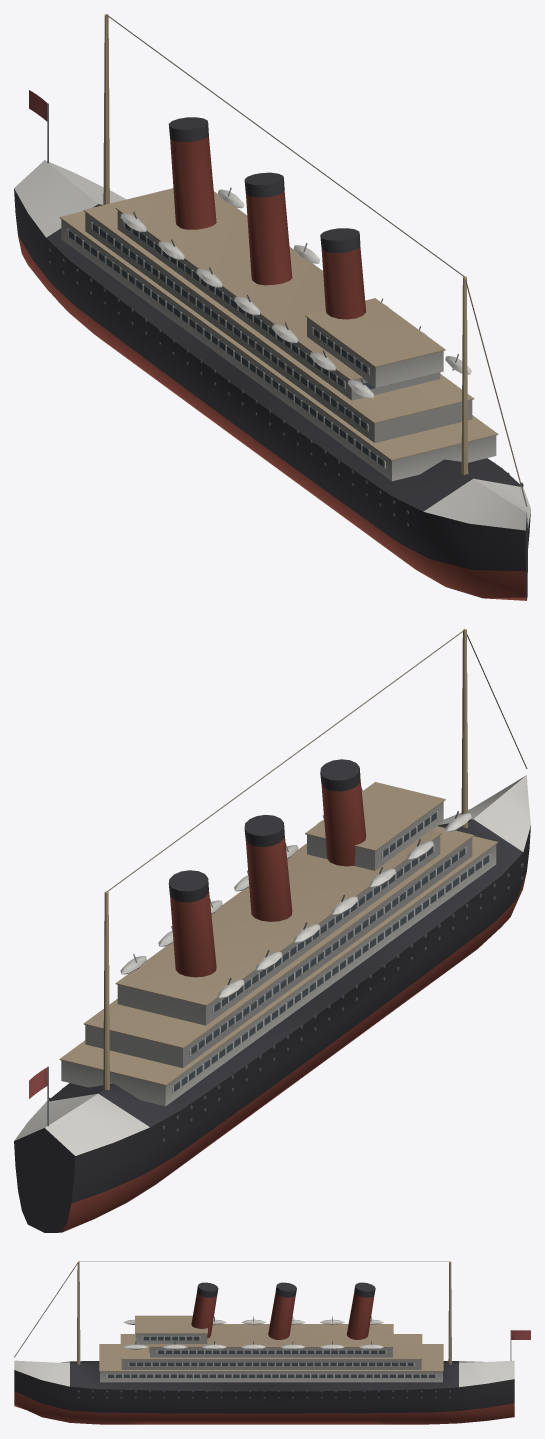
File: liner.glb
3 views of the same model, one above another, from view 1: azimuth 30°, elevation 25°; view 2: azimuth 150°, elevation 25°; view 3: azimuth 270°, elevation 25° (orthographic). The views are drawn at different scales.
Parts seen in each view (by area): view 1: Body; view 2: Body; view 3: Body.
Part boxes in pixels (box(x1,y1,x2,y2)): Body: box(14, 14, 530, 600); Body: box(14, 629, 530, 1232); Body: box(14, 1261, 530, 1424).
Size of the model in its own units: 0.966 by 2.43 by 7.23.
